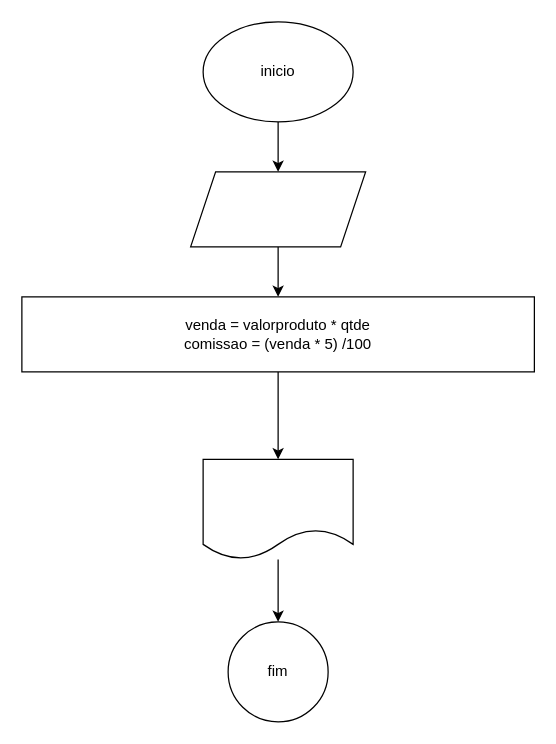
Image size: 556x744. Some labels were removed from this diagram. The centre of each missing label's shape, as x and y in pixels:
comissao: point (277, 508)
valorproduto, qtde: point (277, 209)
